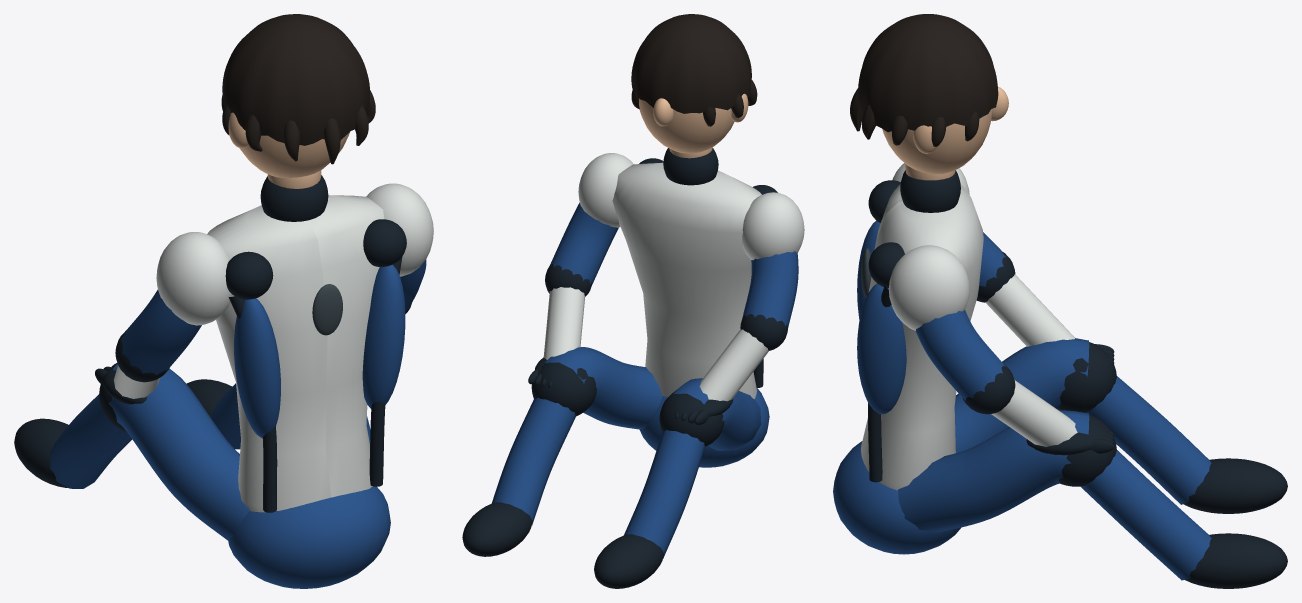
File: shinji-seated.glb
3 views of the same model, side by side, from view 1: azimuth 30°, elevation 25°; view 2: azimuth 150°, elevation 25°; view 3: azimuth 270°, elevation 25° (orthographic). The views are drawn at different scales.
Visible parts, largest first — view 1: merged seated body shinji (×6); view 2: merged seated body shinji (×5); view 3: merged seated body shinji (×5).
Part boxes in pixels (<box>): merged seated body shinji (×6): <box>14,14,433,588</box>; merged seated body shinji (×5): <box>462,14,804,588</box>; merged seated body shinji (×5): <box>833,14,1287,588</box>.
Bounding box in the file's own units: 1.26 × 2.3 × 1.8.
